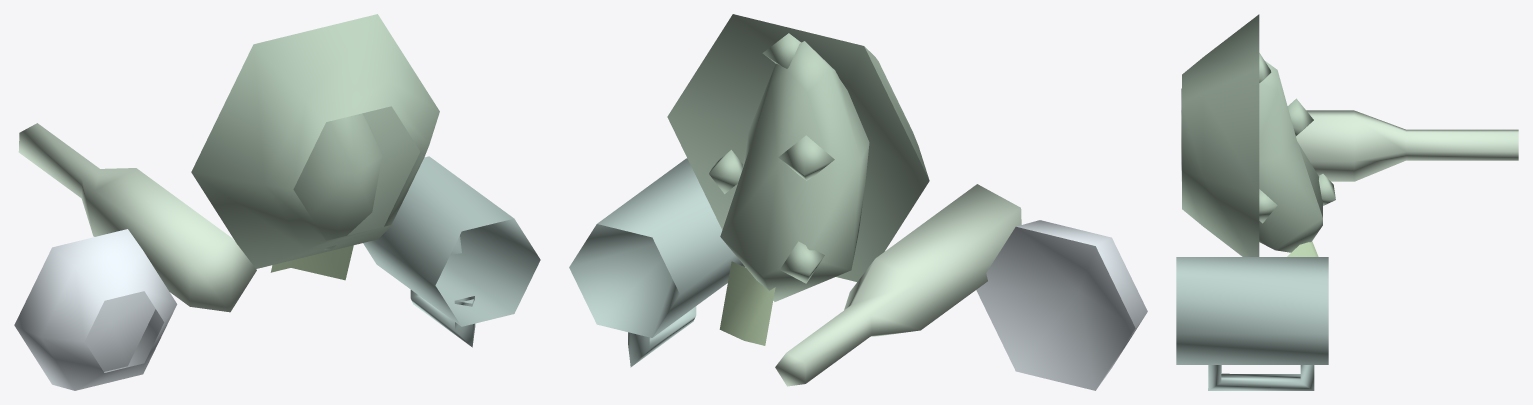
The picture shows the model from 3 angles, left to right: view 1: azimuth 30°, elevation 25°; view 2: azimuth 150°, elevation 25°; view 3: azimuth 270°, elevation 25°; orthographic projection. The views are drawn at different scales.
Parts seen in each view (by area): view 1: Object48; view 2: Object48; view 3: Object48.
Boxes of the visible parts, x1,y1,x2,y2 form: Object48: [14, 14, 540, 390]; Object48: [569, 14, 1147, 390]; Object48: [1176, 14, 1518, 390].
Bounding box in the file's own units: 9120 × 5857 × 6180.
